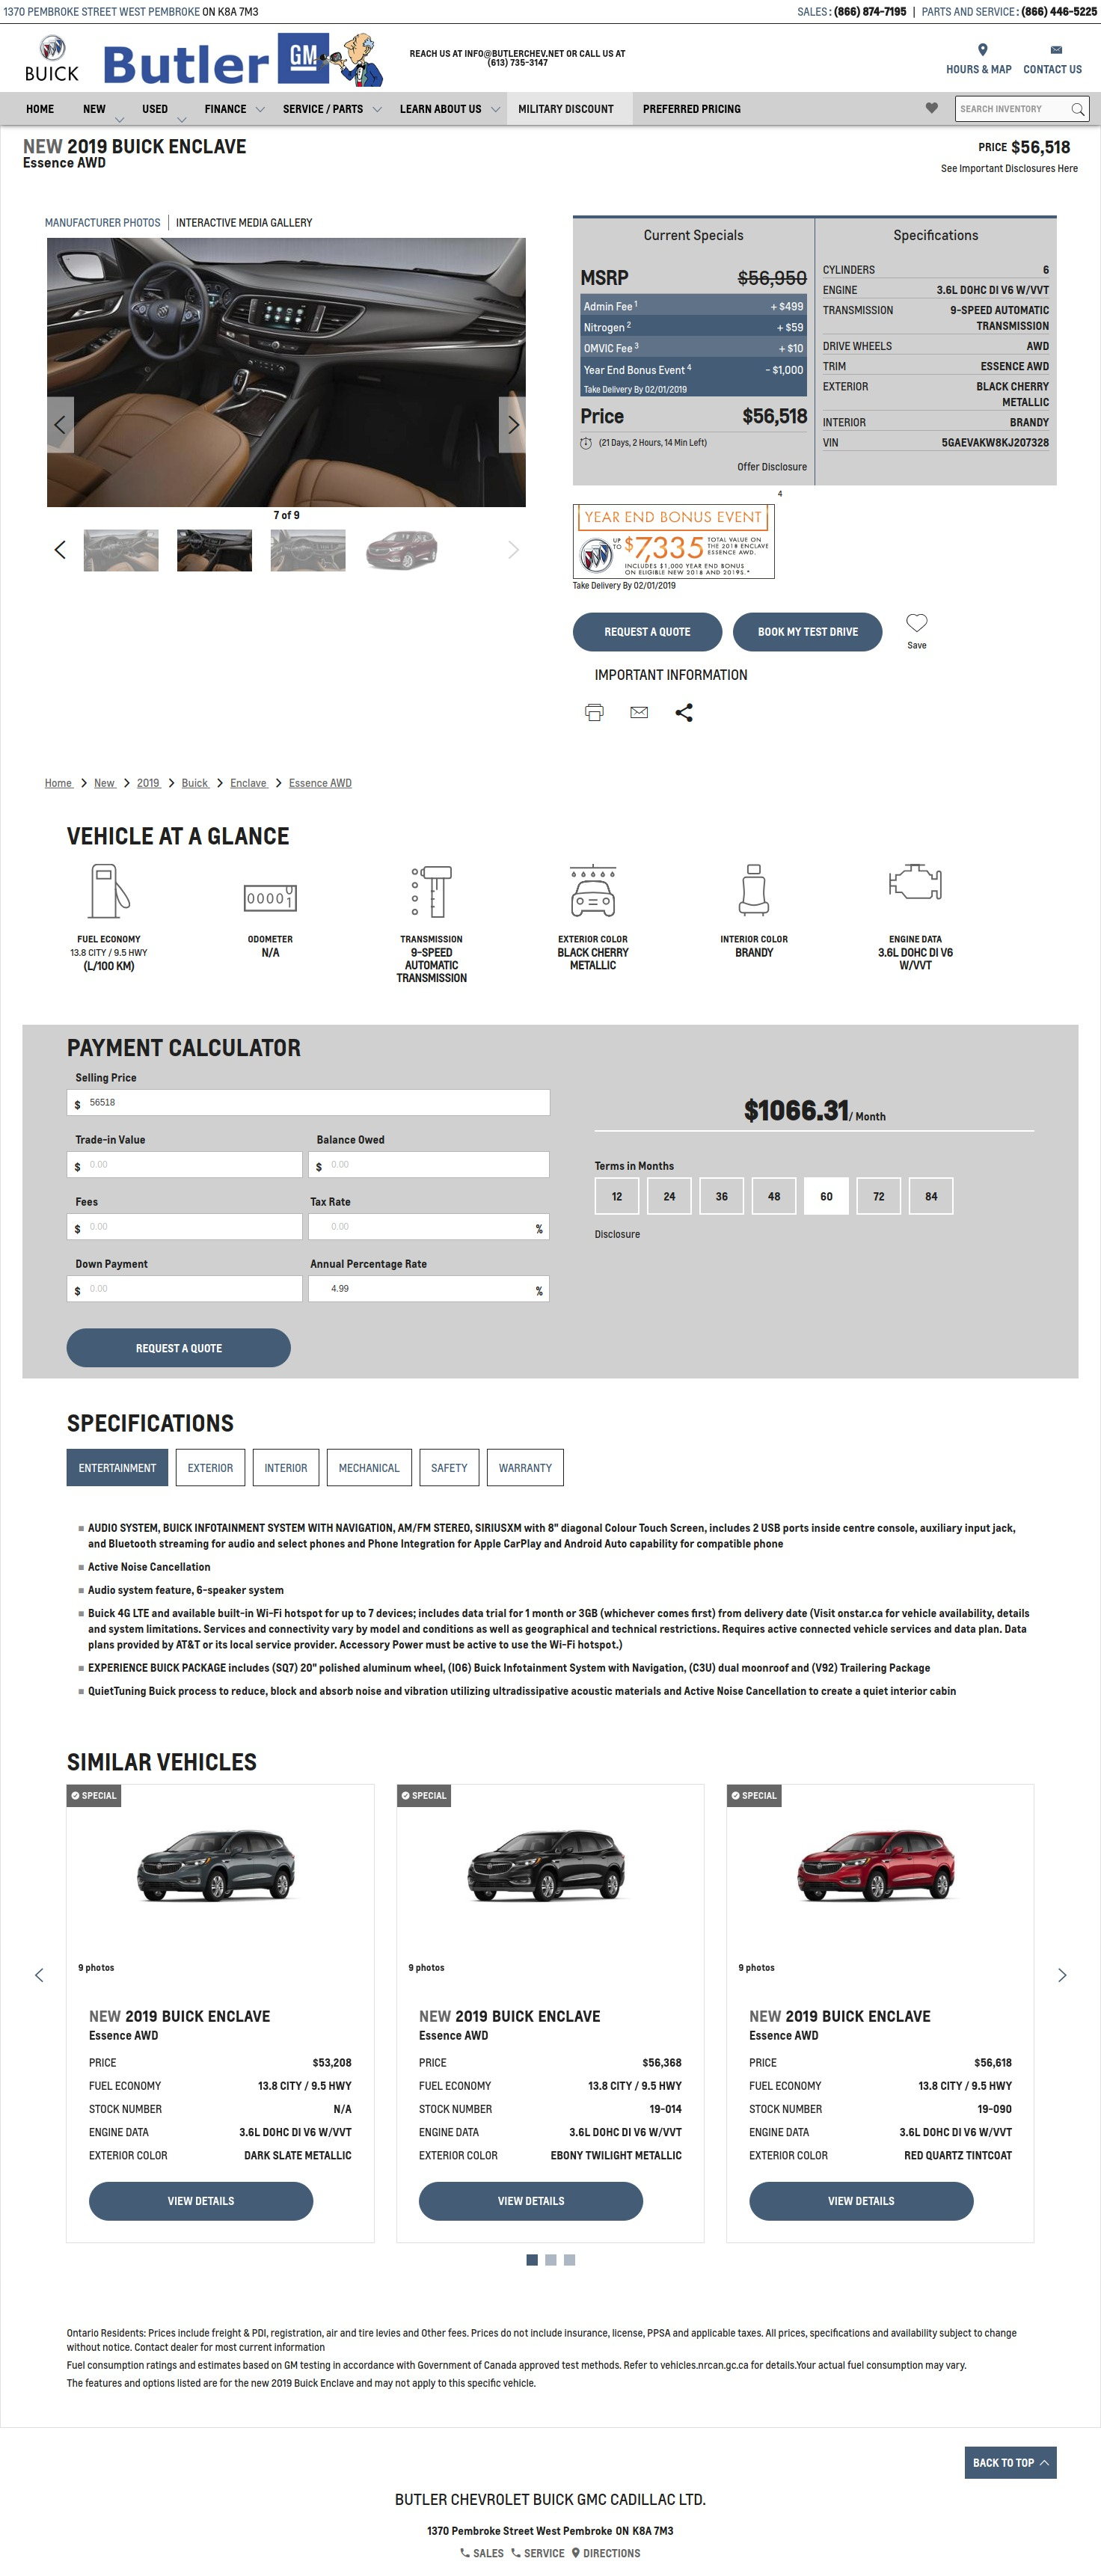car: (508, 537, 523, 562)
